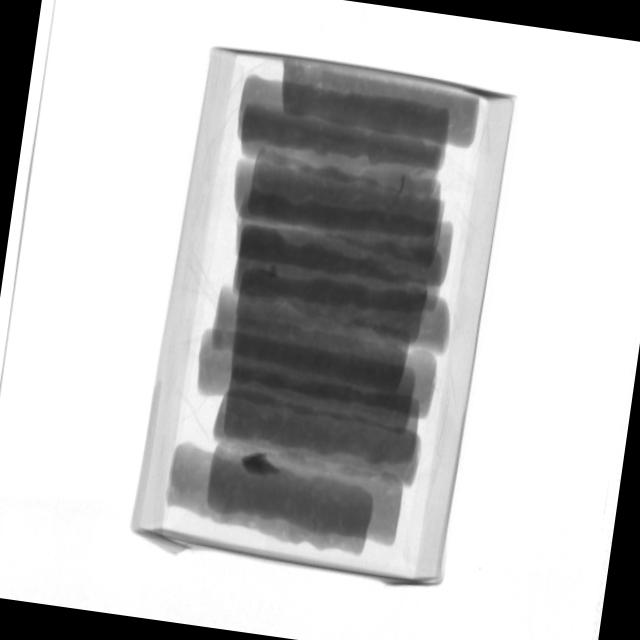ym: (241, 451, 285, 478), (396, 172, 409, 205), (270, 264, 281, 280)
